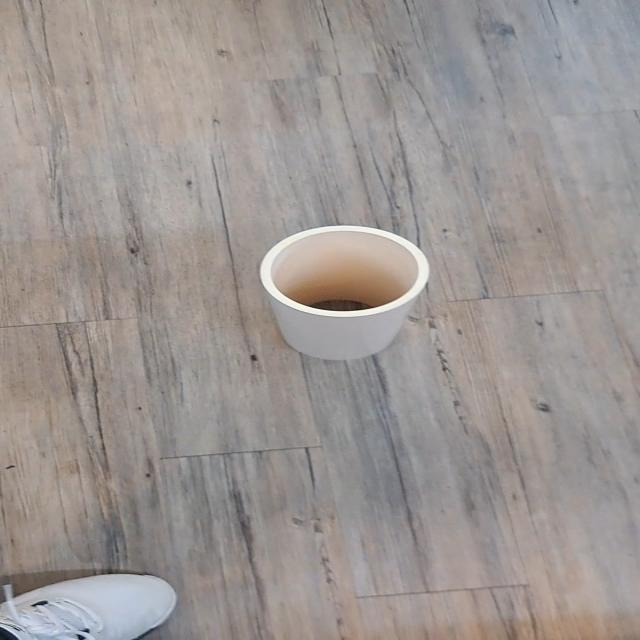CORAL: (205, 194, 506, 386)
